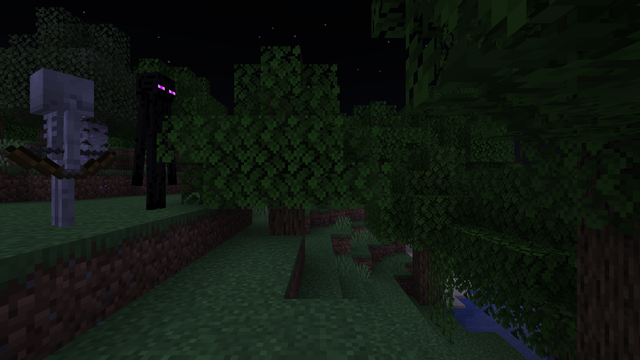endermens: (132, 67, 178, 210)
squelettes: (14, 69, 102, 228)
